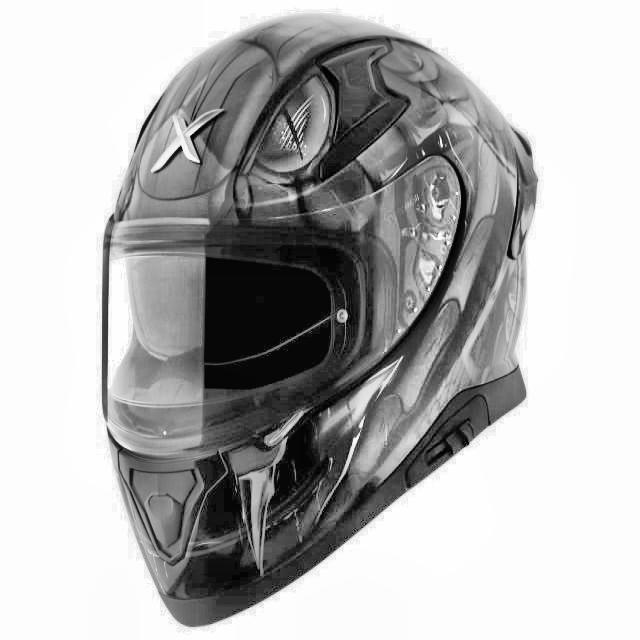Helmet: (94, 8, 546, 630)
